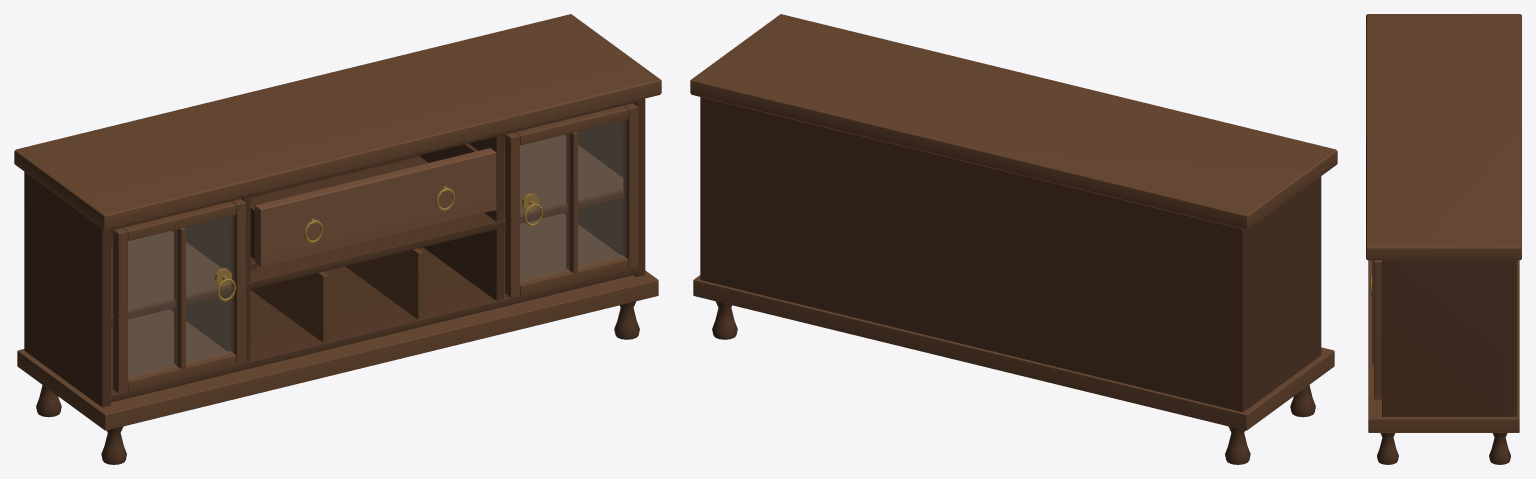
The model's file is rpg-mansion-glazed-credenza-01.glb.
The picture shows the model from 3 angles, left to right: view 1: azimuth 30°, elevation 25°; view 2: azimuth 150°, elevation 25°; view 3: azimuth 270°, elevation 25°; orthographic projection. The views are drawn at different scales.
Visible parts, largest first — view 1: rpg-mansion-glazed-credenza-01; view 2: rpg-mansion-glazed-credenza-01; view 3: rpg-mansion-glazed-credenza-01.
Boxes of the visible parts, x1=… form: rpg-mansion-glazed-credenza-01: x1=14, y1=14, x2=661, y2=464; rpg-mansion-glazed-credenza-01: x1=690, y1=14, x2=1337, y2=464; rpg-mansion-glazed-credenza-01: x1=1366, y1=14, x2=1521, y2=464.
Bounding box in the file's own units: 1.6 × 0.71 × 0.45.
